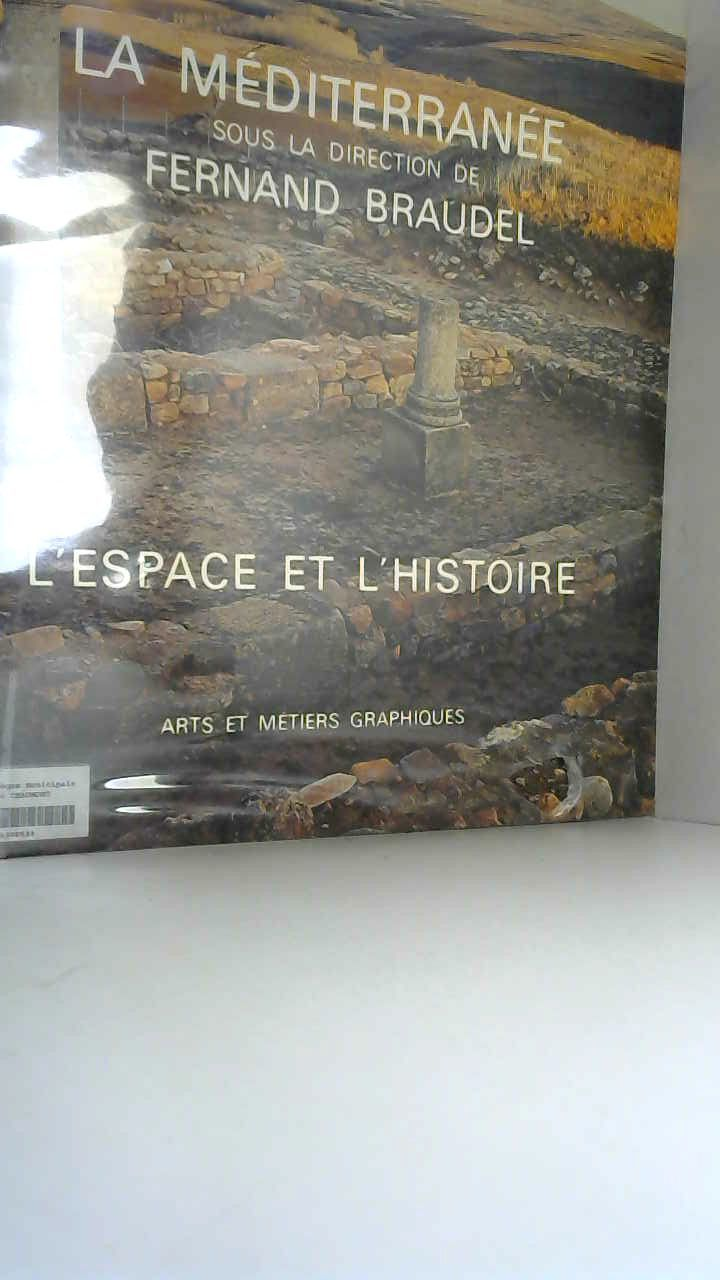book: (0, 0, 704, 899)
